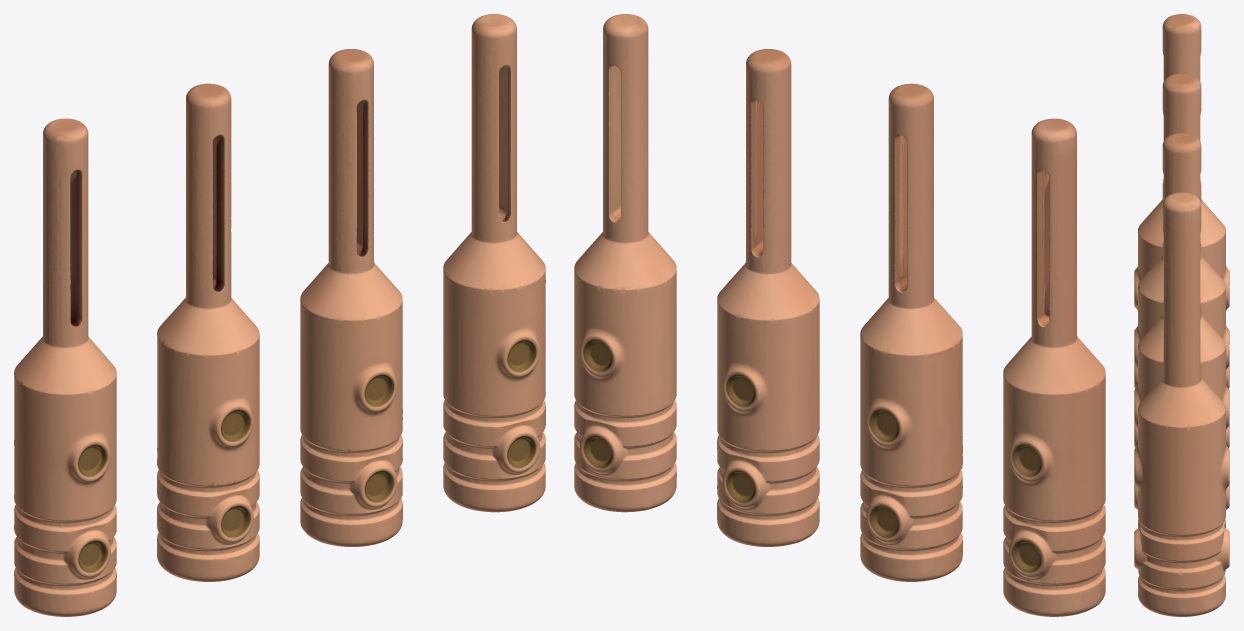
File: speakers_plugs_banana (2).glb
3 renders of one model, left to right at view 1: azimuth 30°, elevation 25°; view 2: azimuth 150°, elevation 25°; view 3: azimuth 270°, elevation 25°, orthographic. The views are drawn at different scales.
Parts seen in each view (by area): view 1: mesh_node; view 2: mesh_node; view 3: mesh_node.
Part boxes in pixels (box(x1,y1,x2,y2)): mesh_node: box(14, 14, 545, 616); mesh_node: box(574, 14, 1105, 616); mesh_node: box(1134, 14, 1229, 616).
Size of the model in its own units: 1.9 by 1.66 by 0.3544.
1 material, 1 textured.
